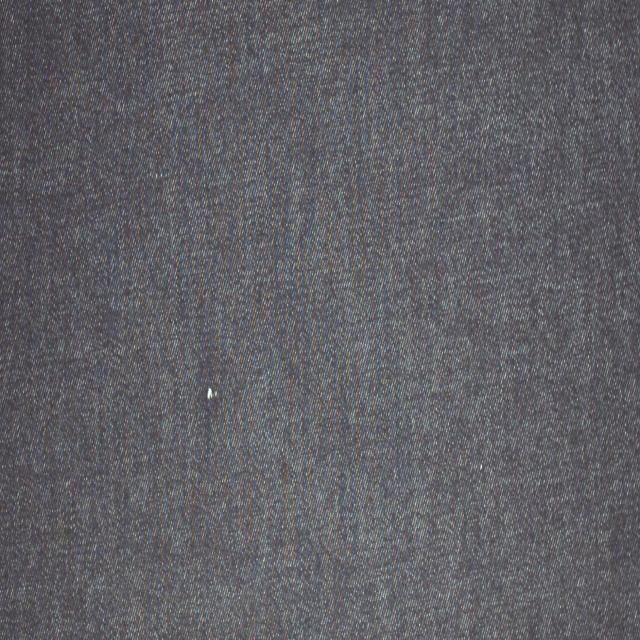Knot: (206, 388, 219, 400)
